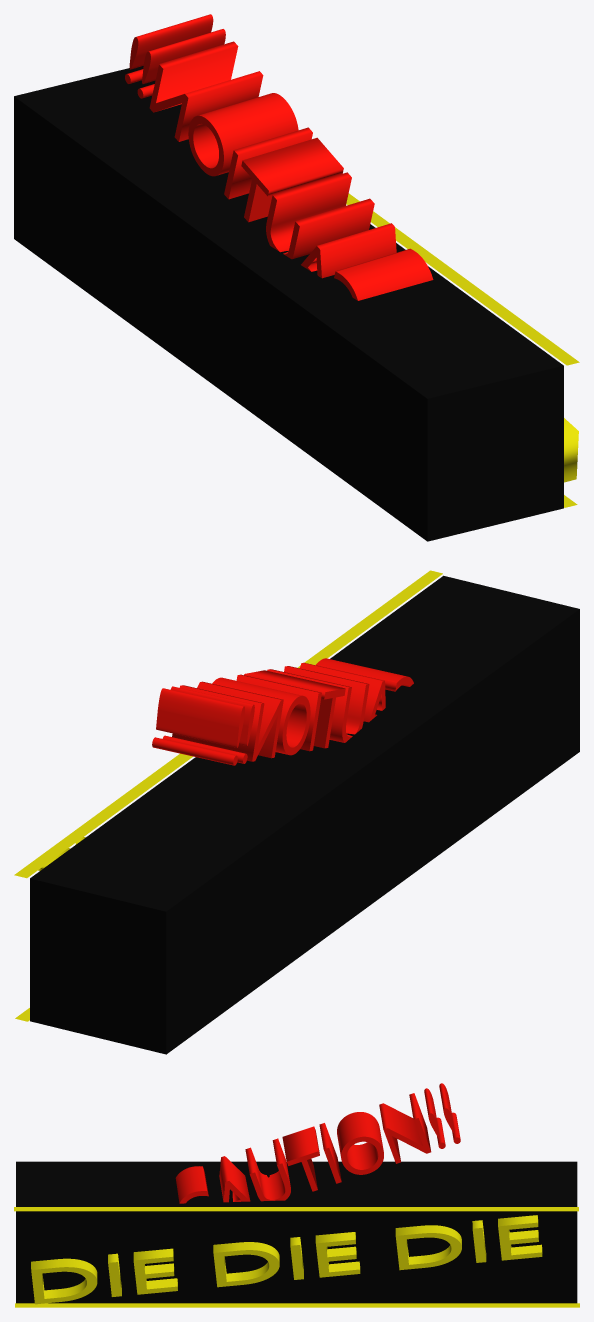
File: obstacle_3.fbx
3 renders of one model, top to bottom at view 1: azimuth 30°, elevation 25°; view 2: azimuth 150°, elevation 25°; view 3: azimuth 270°, elevation 25°, orthographic. The views are drawn at different scales.
Visible parts, largest first — view 1: Cube, Text, Plane.001, Text.001; view 2: Cube, Text, Plane.001; view 3: Cube, Text.001, Text, Plane.001, Plane.
Boxes of the visible parts, <box> form: Cube: <box>14,66,563,541</box>; Text: <box>125,14,433,300</box>; Plane.001: <box>346,193,579,365</box>; Text.001: <box>564,418,578,482</box>; Cube: <box>30,575,579,1054</box>; Text: <box>152,658,413,765</box>; Plane.001: <box>14,570,442,878</box>; Cube: <box>16,1161,577,1303</box>; Text.001: <box>31,1215,542,1304</box>; Text: <box>175,1083,460,1203</box>; Plane.001: <box>14,1207,578,1211</box>; Plane: <box>15,1303,579,1307</box>.
Bounding box in the file's own units: 254 × 402 × 1123.
